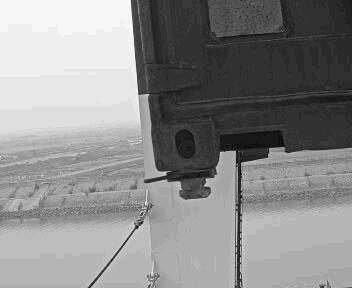twist_lock_1: (157, 161, 223, 209)
